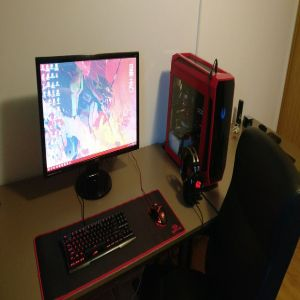headset: (173, 145, 211, 210)
keyboard: (57, 206, 135, 273)
mouse: (145, 200, 171, 227)
